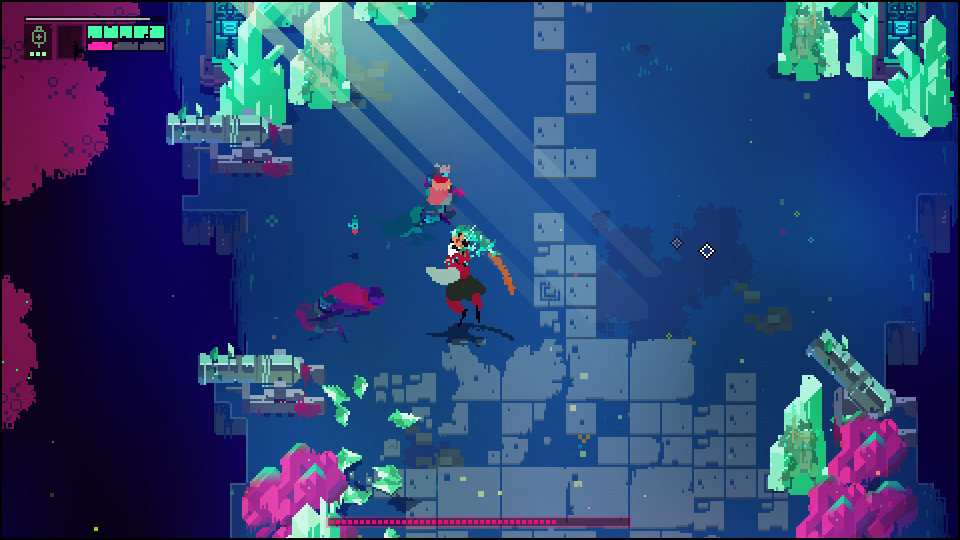hanged_man: (423, 221, 513, 330)
player: (425, 160, 455, 221)
